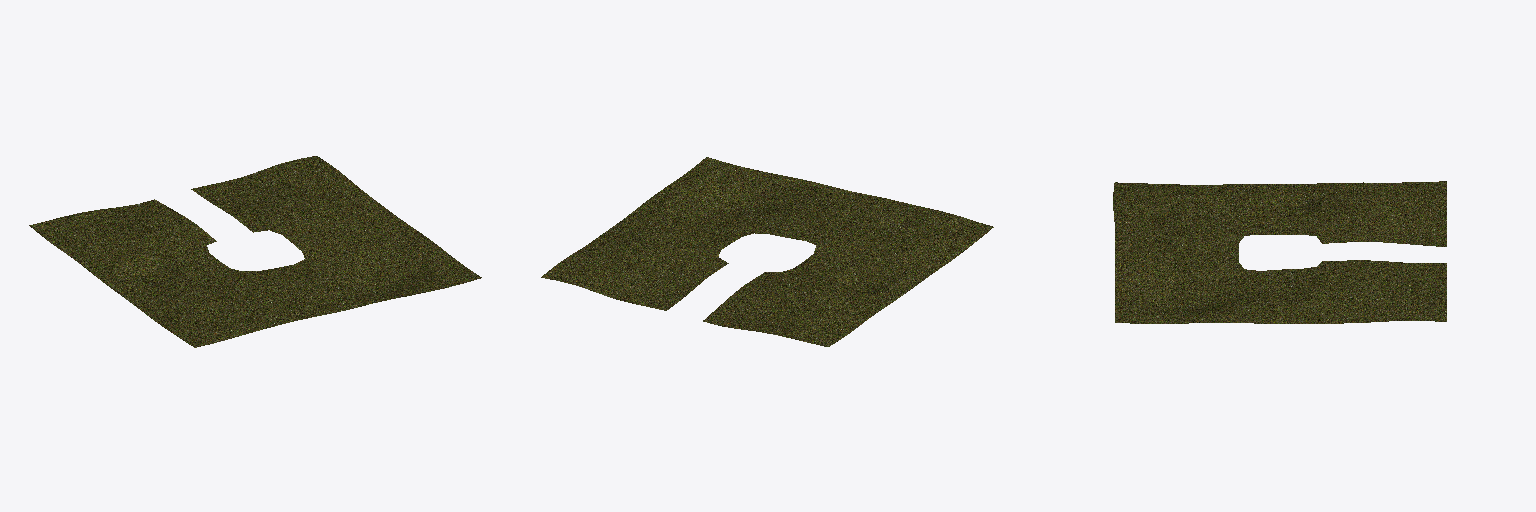
3 views of the same model, side by side, from view 1: azimuth 30°, elevation 25°; view 2: azimuth 150°, elevation 25°; view 3: azimuth 270°, elevation 25° (orthographic).
Visible parts, largest first — view 1: grass_Plane.004; view 2: grass_Plane.004; view 3: grass_Plane.004.
Boxes of the visible parts, box(x1,y1,x2,y2) form: grass_Plane.004: box(29, 156, 481, 347); grass_Plane.004: box(541, 157, 993, 346); grass_Plane.004: box(1113, 181, 1446, 323).
Bounding box in the file's own units: 64.87 × 4.09 × 65.25.
Materials: 1 (1 with a texture image).